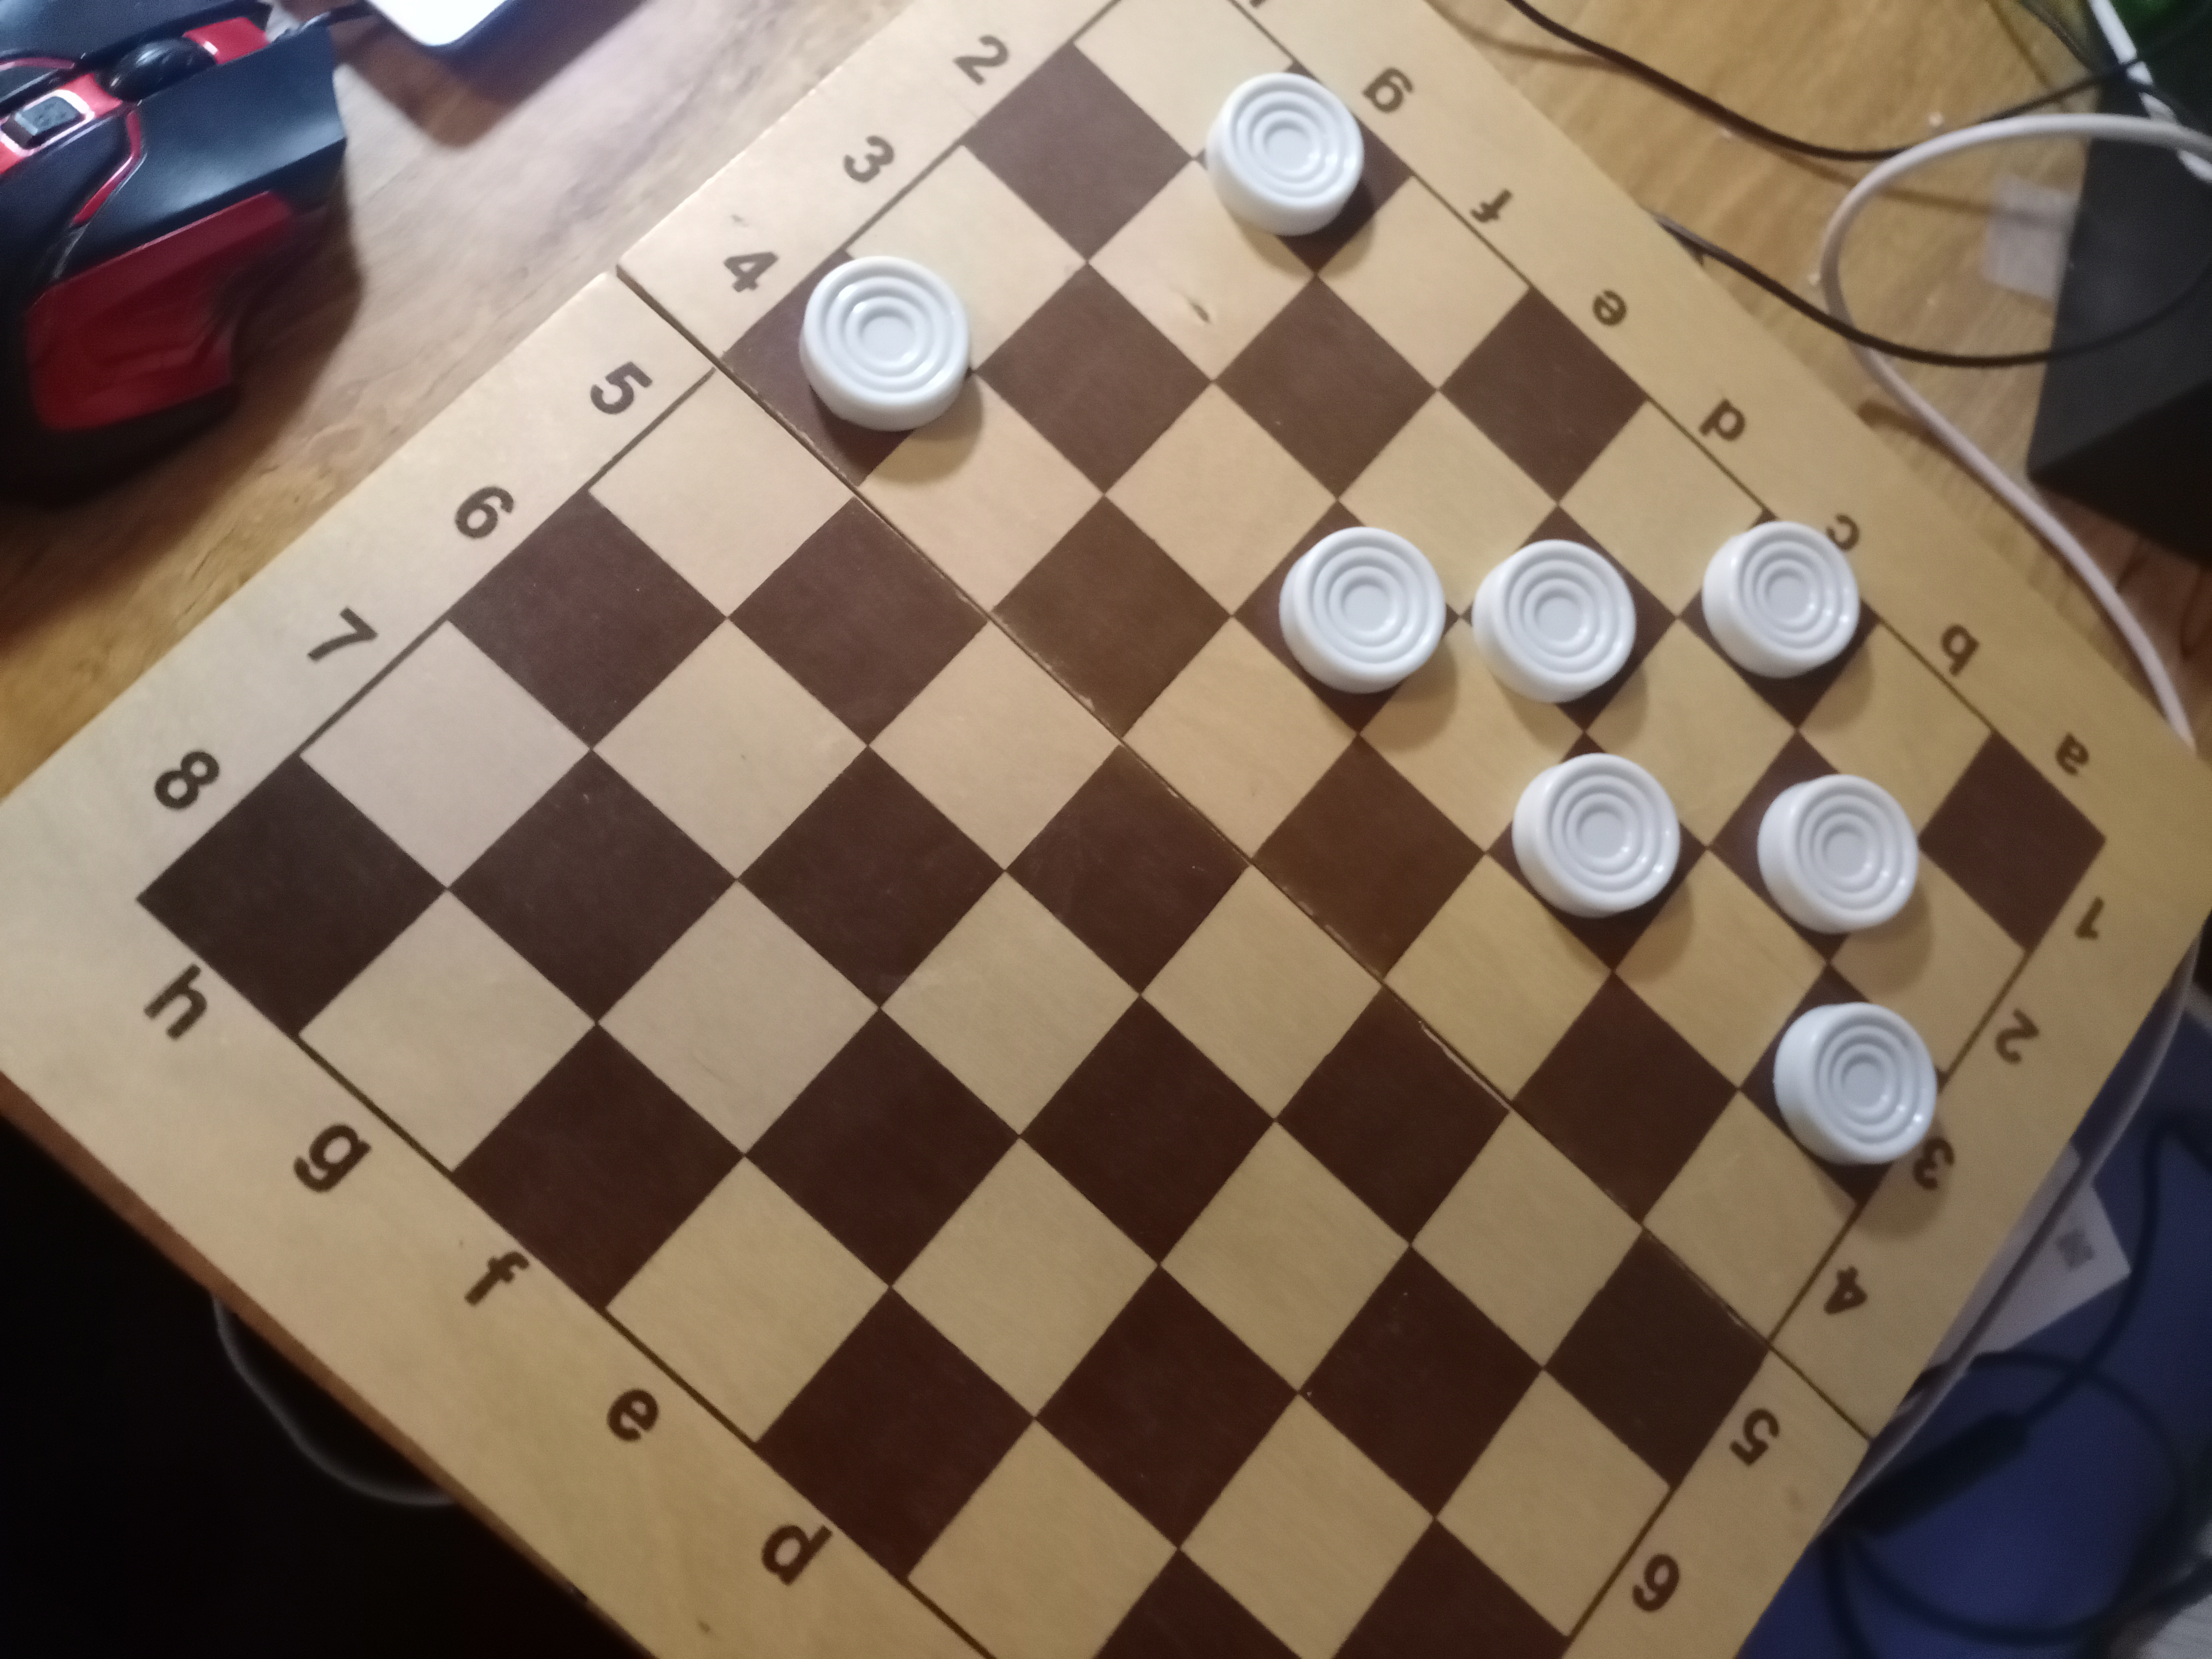White_Draught: (721, 249, 972, 491), (1233, 500, 1461, 732), (1486, 734, 1709, 971), (1461, 502, 1679, 734), (1709, 728, 1921, 964), (1740, 965, 1947, 1201), (1195, 63, 1414, 277), (1679, 507, 1881, 728)
